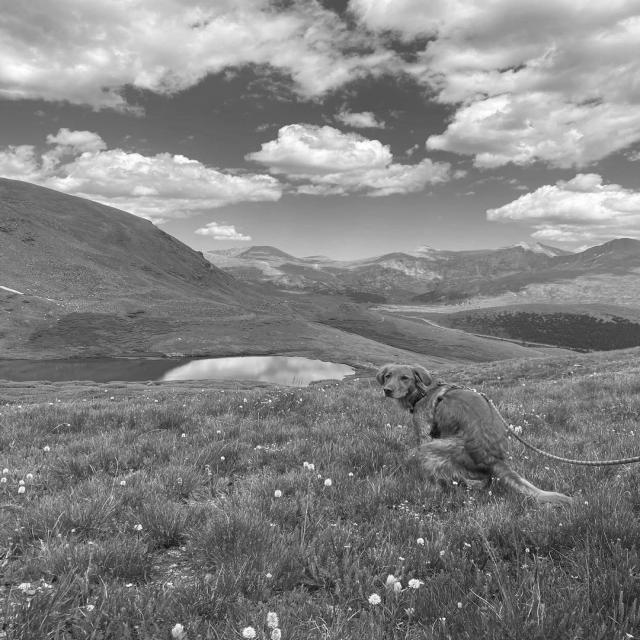squatting: (373, 360, 581, 511)
